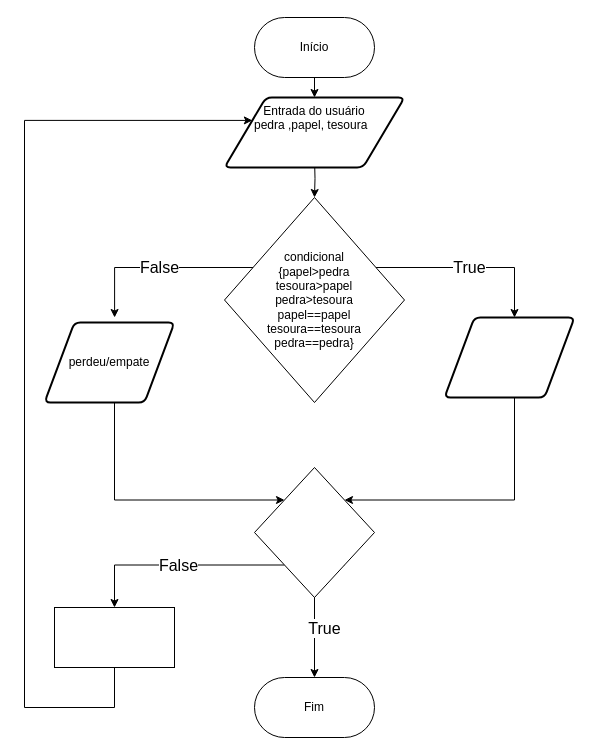
Image size: 593x755. Some labels were removed from this diagram. Each missing label, with the box of its shape:
ganhou: (443, 316, 575, 398)
não: (54, 606, 174, 668)
Quer finalizar o jogo: (254, 466, 374, 598)
